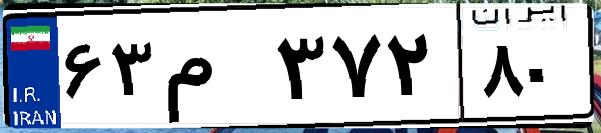0: (525, 38, 570, 115)
2: (385, 28, 445, 110)
3: (270, 28, 330, 110), (110, 28, 158, 98)
6: (57, 26, 110, 100)
7: (330, 28, 385, 110)
8: (475, 38, 525, 113)
م: (158, 20, 270, 120)
